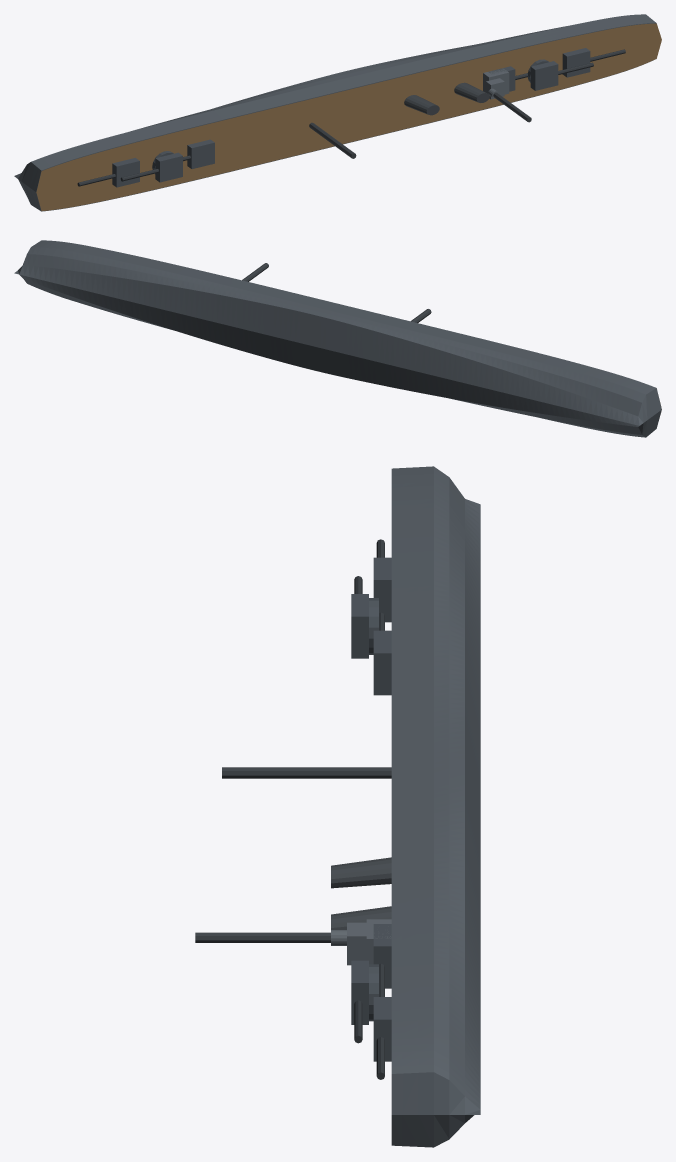
The model's file is 古鷹型.obj.
3 renders of one model, top to bottom at view 1: azimuth 30°, elevation 25°; view 2: azimuth 150°, elevation 25°; view 3: azimuth 270°, elevation 25°, orthographic. The views are drawn at different scales.
Size of the model in its own units: 177 by 15.3 by 34.9.
